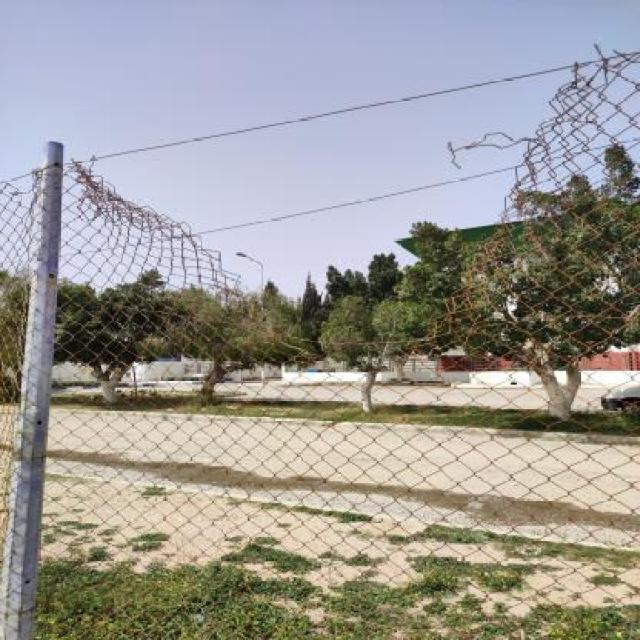fence line: (113, 74, 565, 292)
